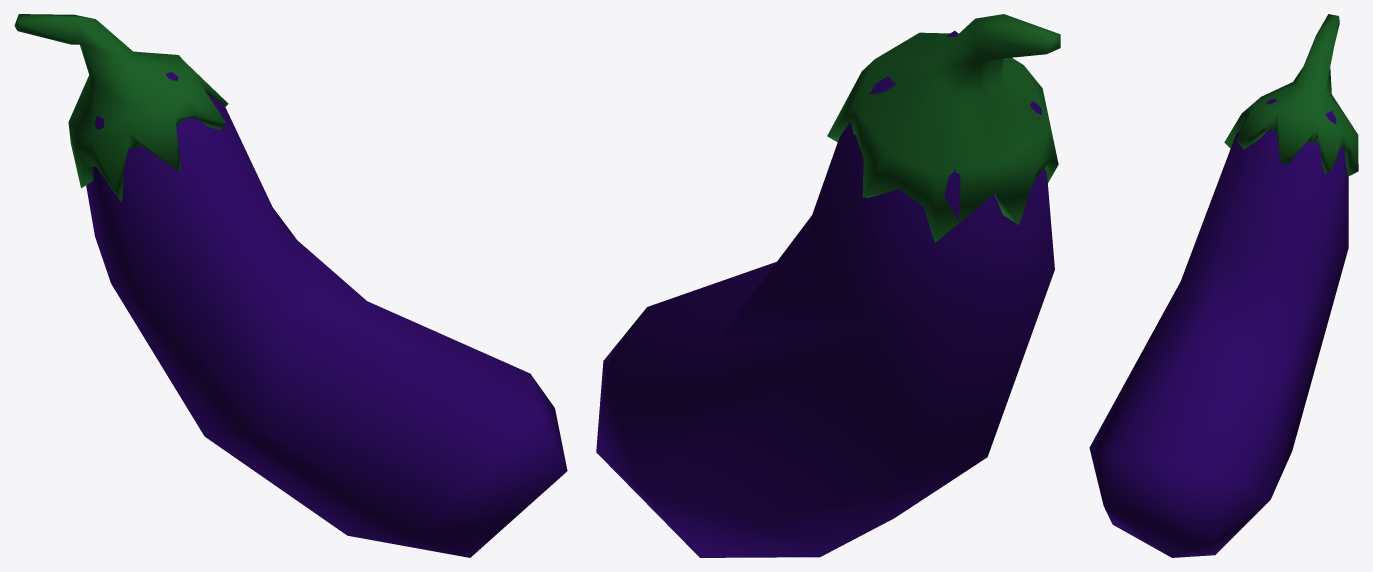
Rendered from eggplant.fbx.
3 renders of one model, left to right at view 1: azimuth 30°, elevation 25°; view 2: azimuth 150°, elevation 25°; view 3: azimuth 270°, elevation 25°, orthographic. The views are drawn at different scales.
Parts seen in each view (by area): view 1: Cube, Cube.004; view 2: Cube, Cube.004; view 3: Cube, Cube.004.
Part boxes in pixels (x1,y1,x2,y2): Cube: [86, 72, 567, 557]; Cube.004: [14, 14, 228, 201]; Cube: [596, 30, 1054, 557]; Cube.004: [827, 14, 1060, 242]; Cube: [1089, 98, 1348, 557]; Cube.004: [1224, 14, 1358, 176].
Bounding box in the file's own units: 138 × 159 × 94.44.
